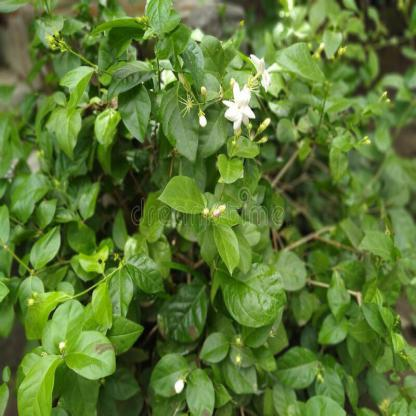Melati: (201, 59, 301, 141)
